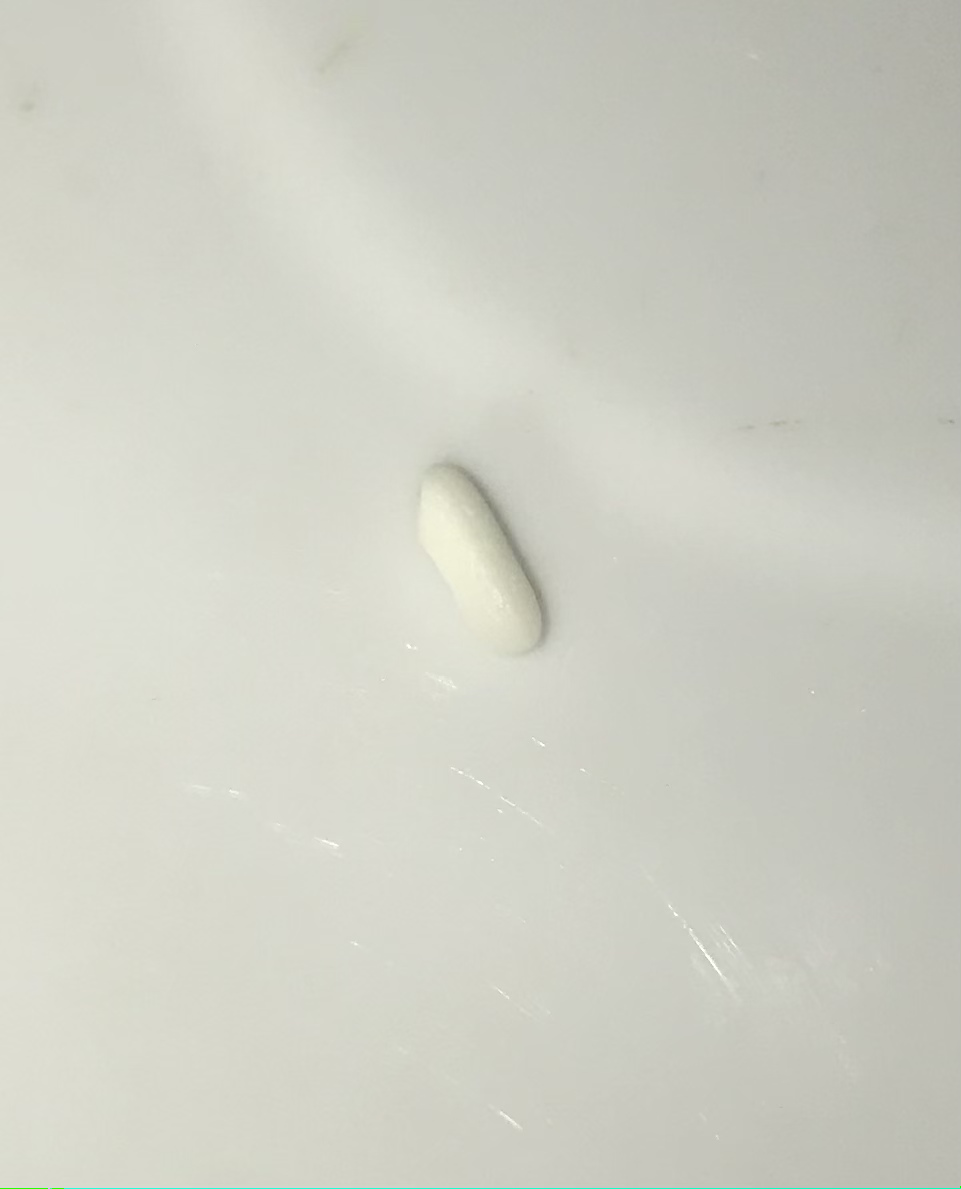Gao Nep Sap: (391, 446, 554, 658)
